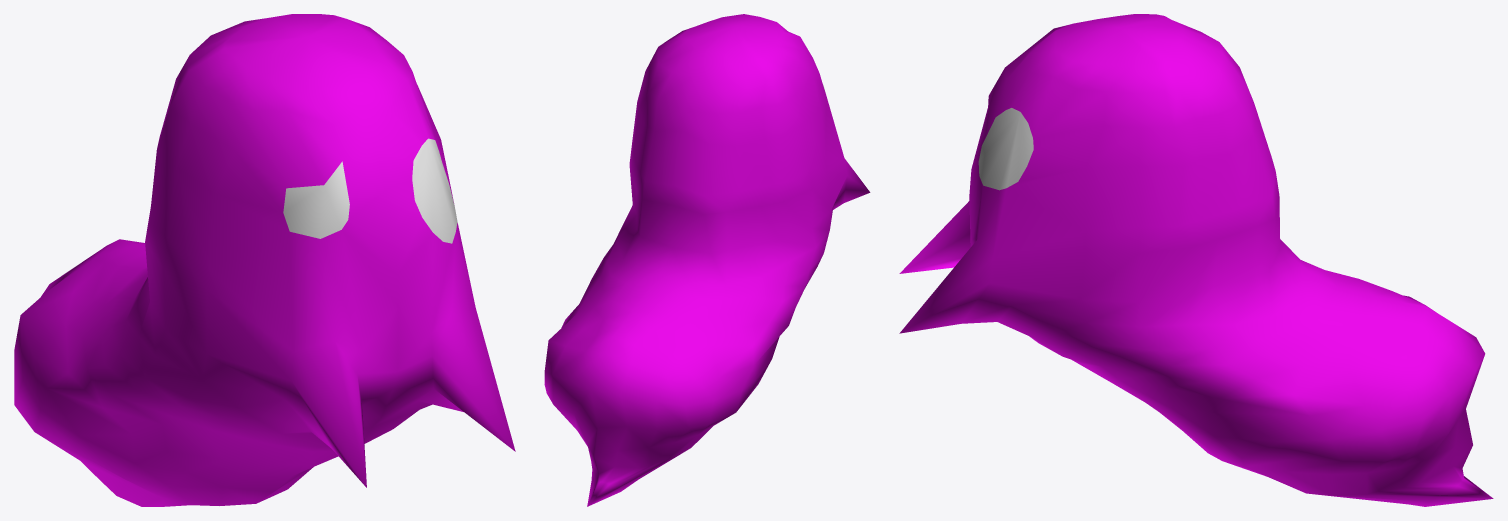
File: Ghost01.fbx
3 renders of one model, left to right at view 1: azimuth 30°, elevation 25°; view 2: azimuth 150°, elevation 25°; view 3: azimuth 270°, elevation 25°, orthographic. The views are drawn at different scales.
Visible parts, largest first — view 1: Mesh; view 2: Mesh; view 3: Mesh.
Part boxes in pixels (left/top/right/bottom): Mesh: left=14, top=14, right=515, bottom=506; Mesh: left=544, top=14, right=870, bottom=506; Mesh: left=899, top=14, right=1493, bottom=506.
Size of the model in its own units: 1.32 by 2.52 by 2.84.
